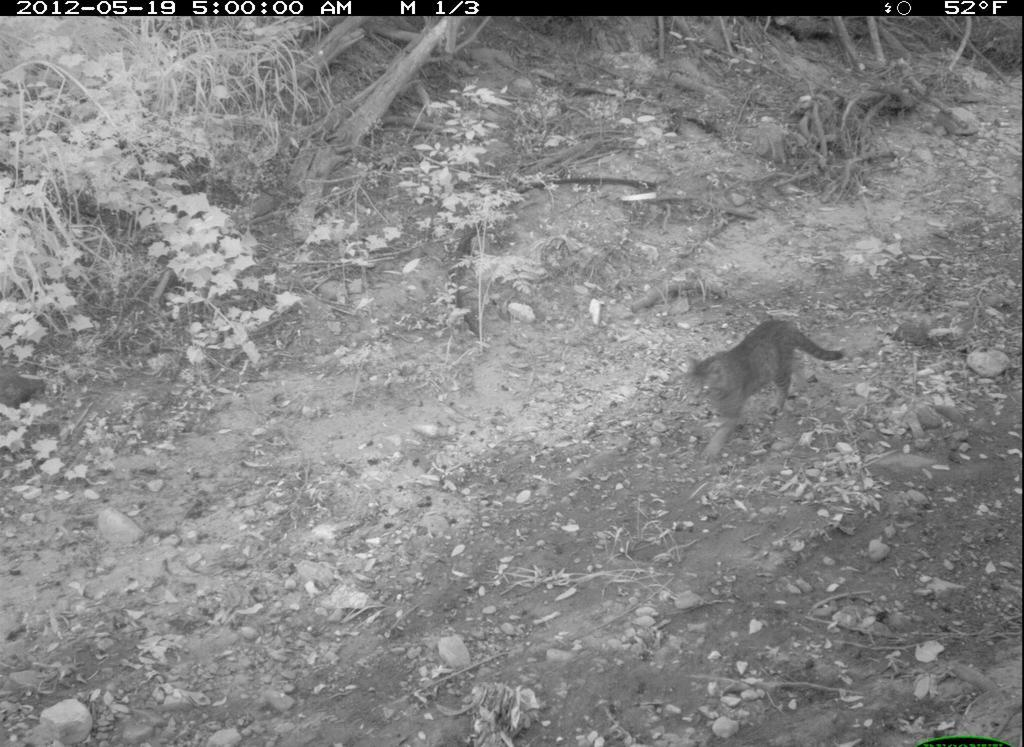cat: (678, 313, 853, 452)
